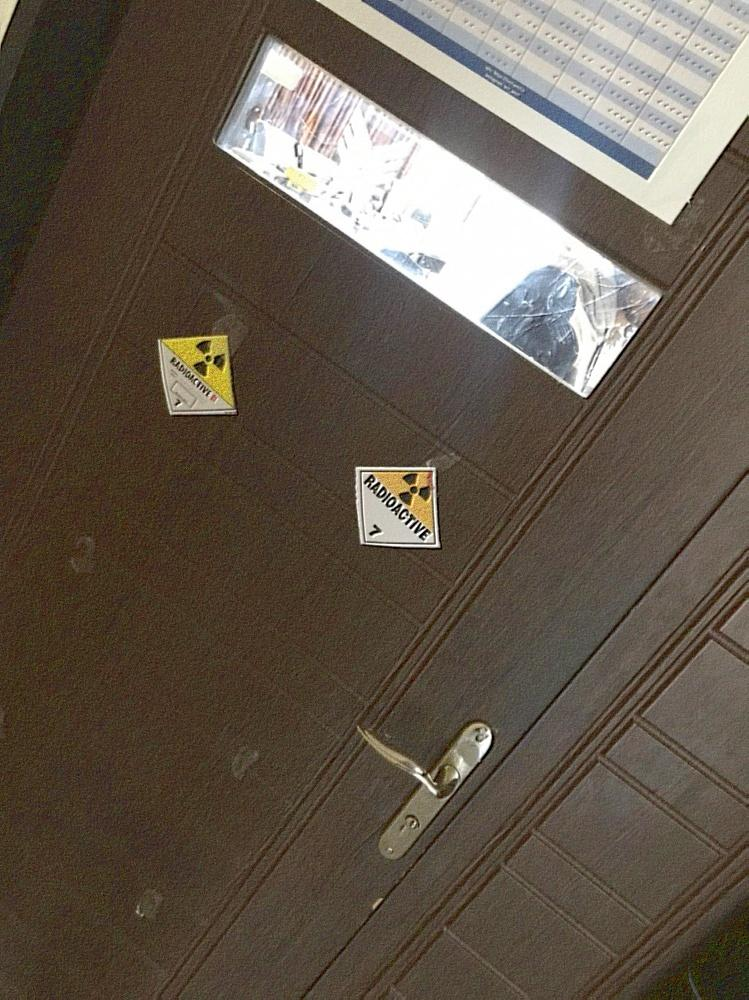radioactive: (358, 464, 443, 548), (161, 336, 239, 415)
